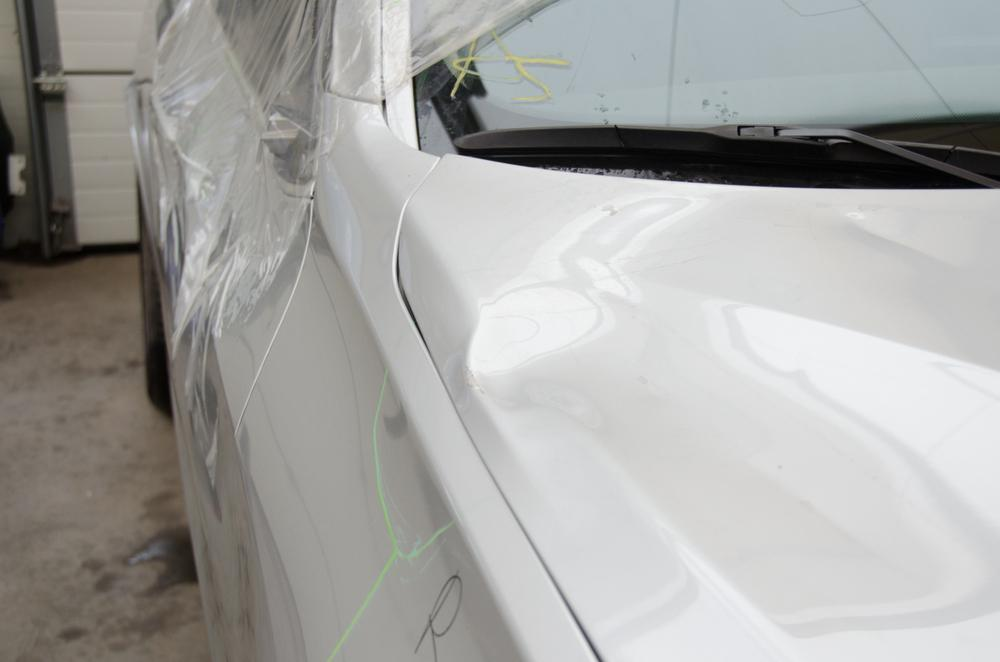dent: (472, 272, 999, 625), (834, 205, 979, 271)
